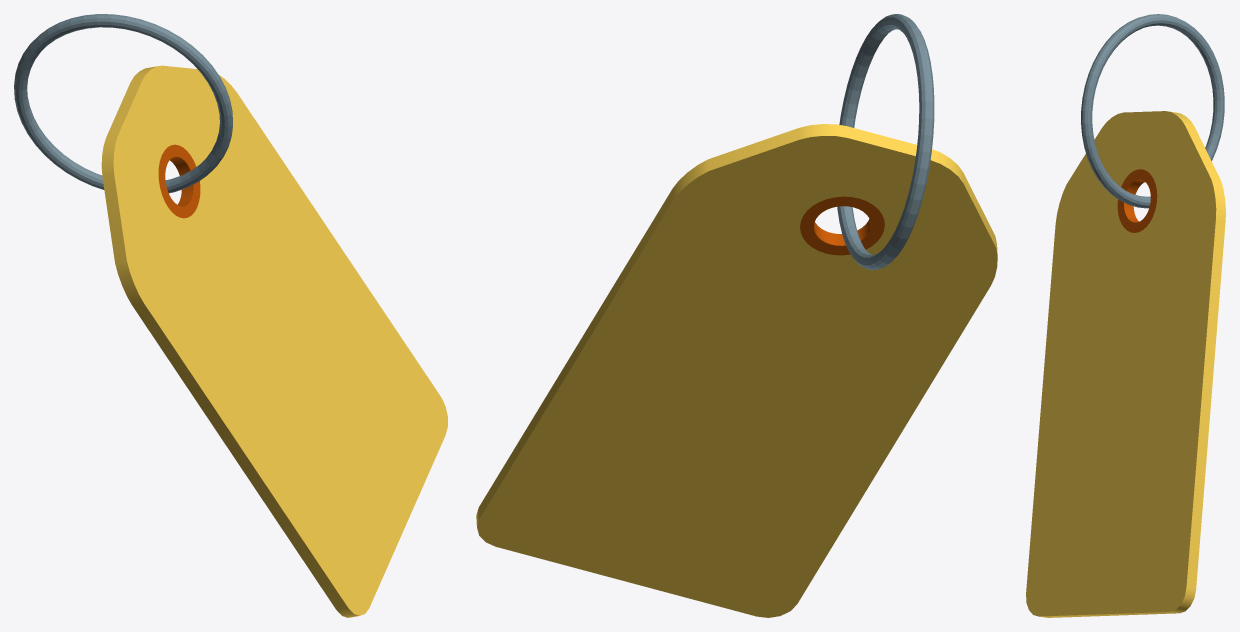
The model's file is label.gltf.
The picture shows the model from 3 angles, left to right: view 1: azimuth 30°, elevation 25°; view 2: azimuth 150°, elevation 25°; view 3: azimuth 270°, elevation 25°; orthographic projection. The views are drawn at different scales.
Visible parts, largest first — view 1: Circle.2560; view 2: Circle.2560; view 3: Circle.2560.
Part boxes in pixels (box(x1,y1,x2,y2)): Circle.2560: box(14, 14, 447, 617); Circle.2560: box(476, 14, 997, 617); Circle.2560: box(1026, 14, 1225, 617).
Size of the model in its own units: 1.66 by 2.32 by 0.8068.
1 material, 1 textured.
